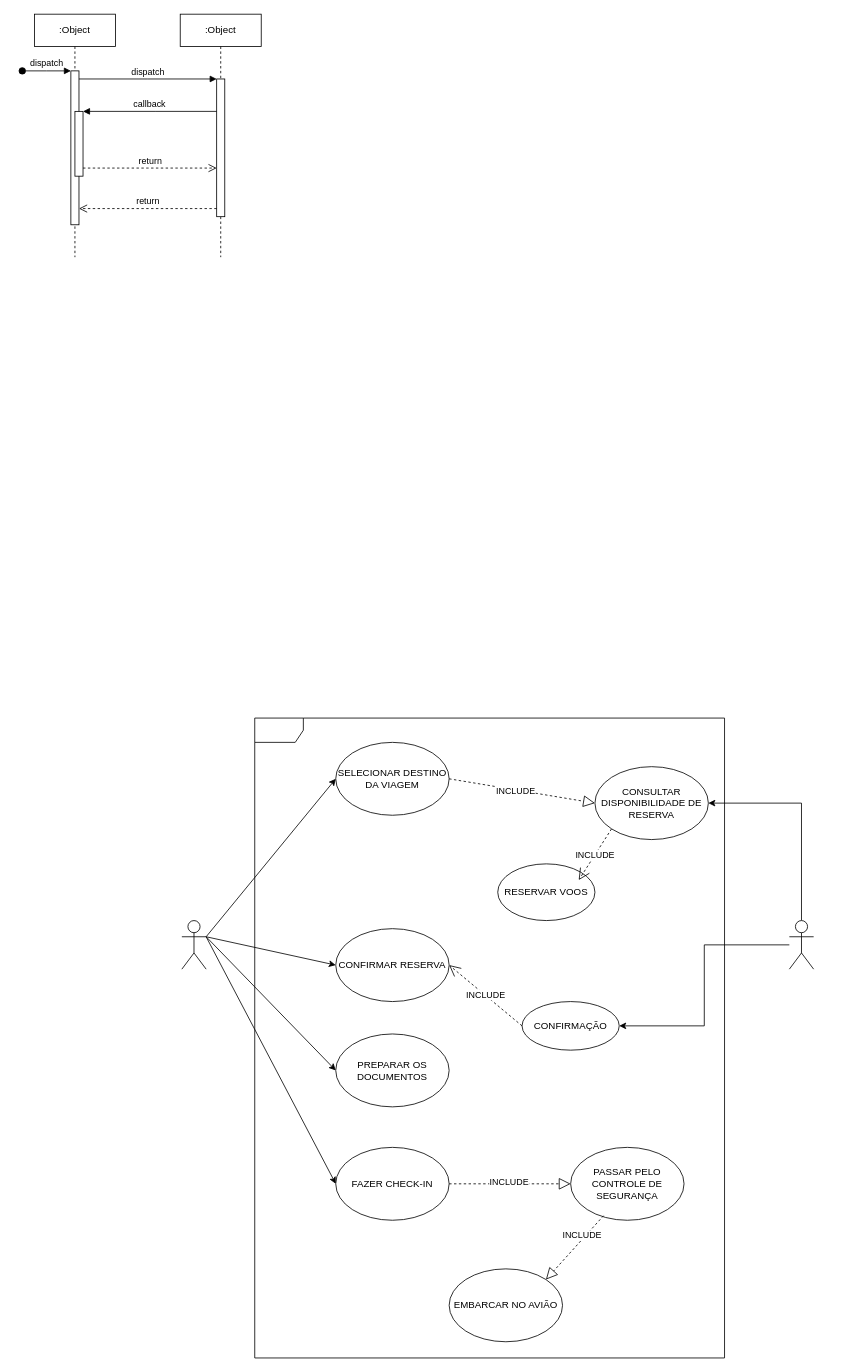
The diagram is 858 pixels wide and 1372 high, and some of its shapes have lost their labels. The shapes that lost their labels are listed below. From the top down, each one's centre as x and y in pixels, then its label:
At (193,944): "Planejador".
At (801,944): "Agência de viagens".
At (489,1037): "frame".
